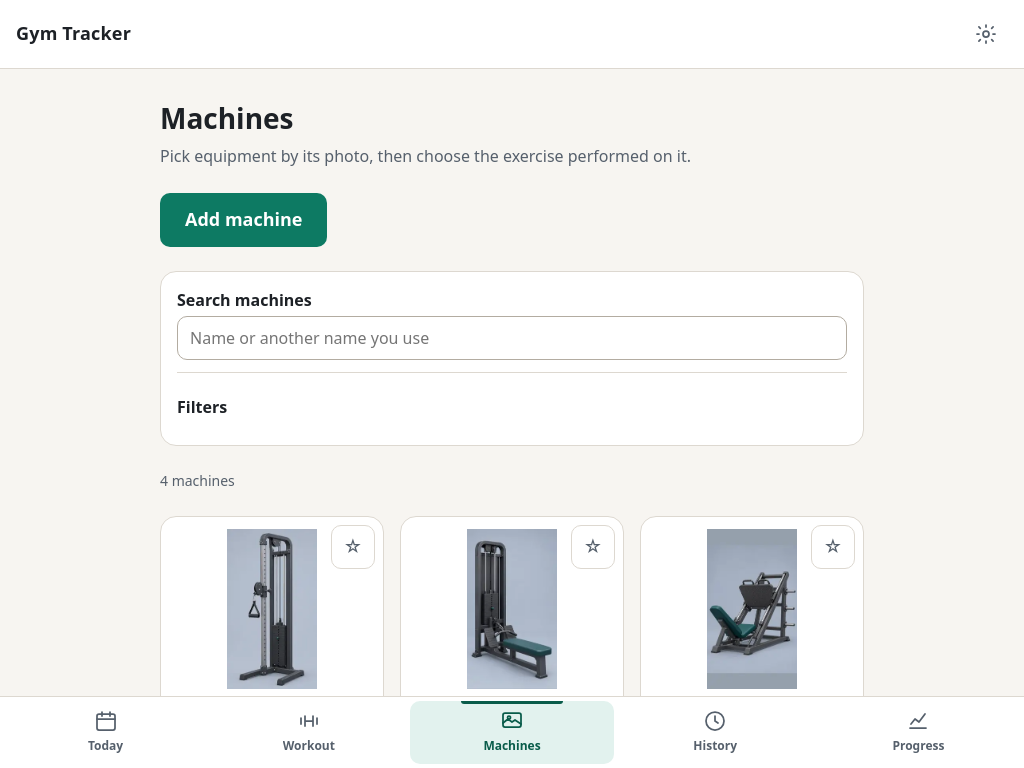
Test: searching › finds a machine by an alias that is not shown on the card
The image size is (1024, 768).
Check: the link with aria-label "Open Low cable row station" is shown, box x1=413 y1=529 x2=611 y2=717
// "Horizontal leg press" is an alias of the selectorized press only.
In the search field labelled "Search machines": (512, 338) x1=177 y1=316 x2=847 y2=360, type "horizontal"
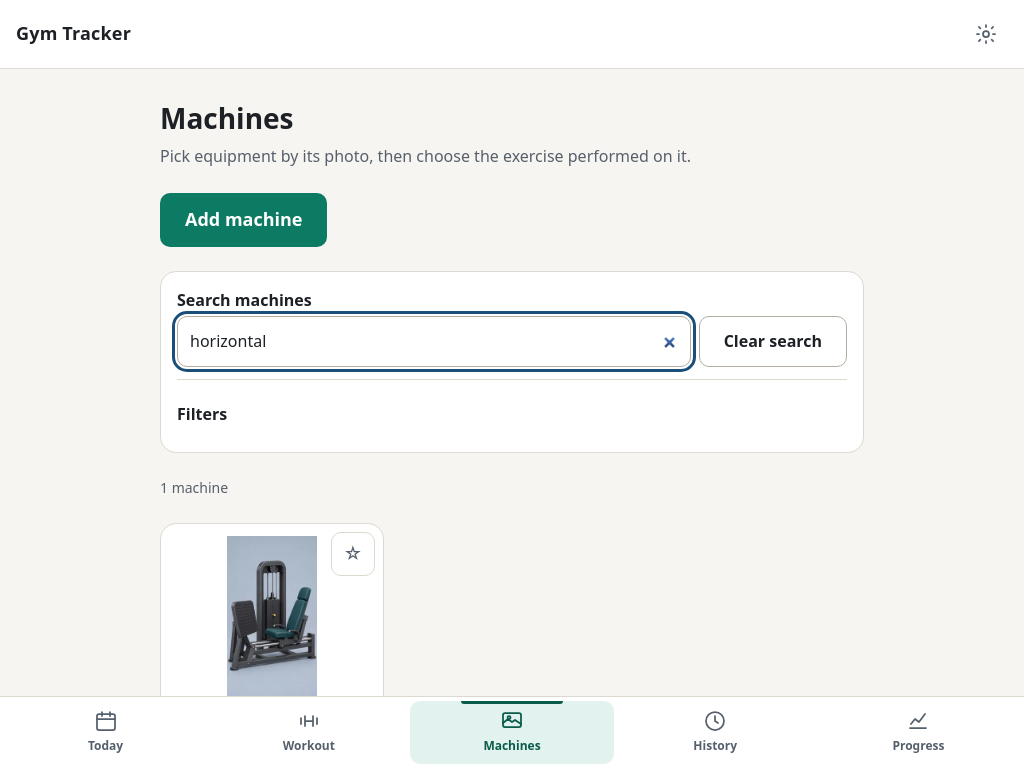
Check: the number of links named "Open " is 1, box x1=173 y1=536 x2=371 y2=744
